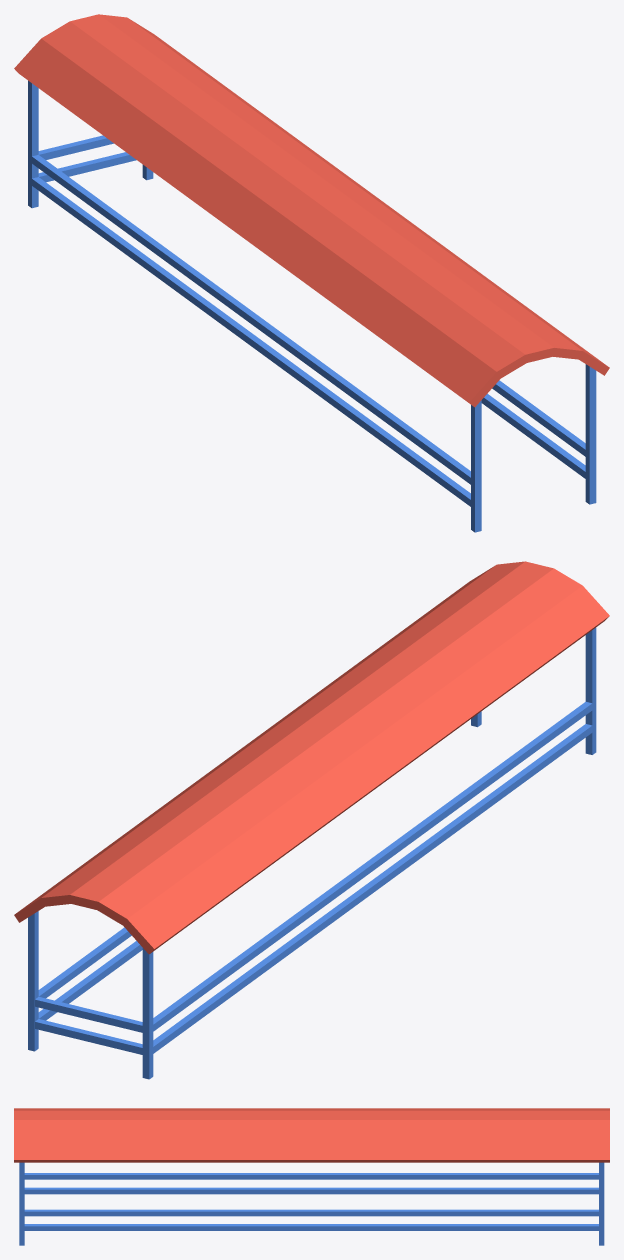
Rendered from CartParking.fbx.
3 renders of one model, top to bottom at view 1: azimuth 30°, elevation 25°; view 2: azimuth 150°, elevation 25°; view 3: azimuth 270°, elevation 25°, orthographic. The views are drawn at different scales.
Parts seen in each view (by area): view 1: CartHome; view 2: CartHome; view 3: CartHome.
Boxes of the visible parts, <box> form: CartHome: <box>14,14,609,532</box>; CartHome: <box>14,561,609,1079</box>; CartHome: <box>14,1108,609,1245</box>.
Bounding box in the file's own units: 285 × 328 × 1599.
